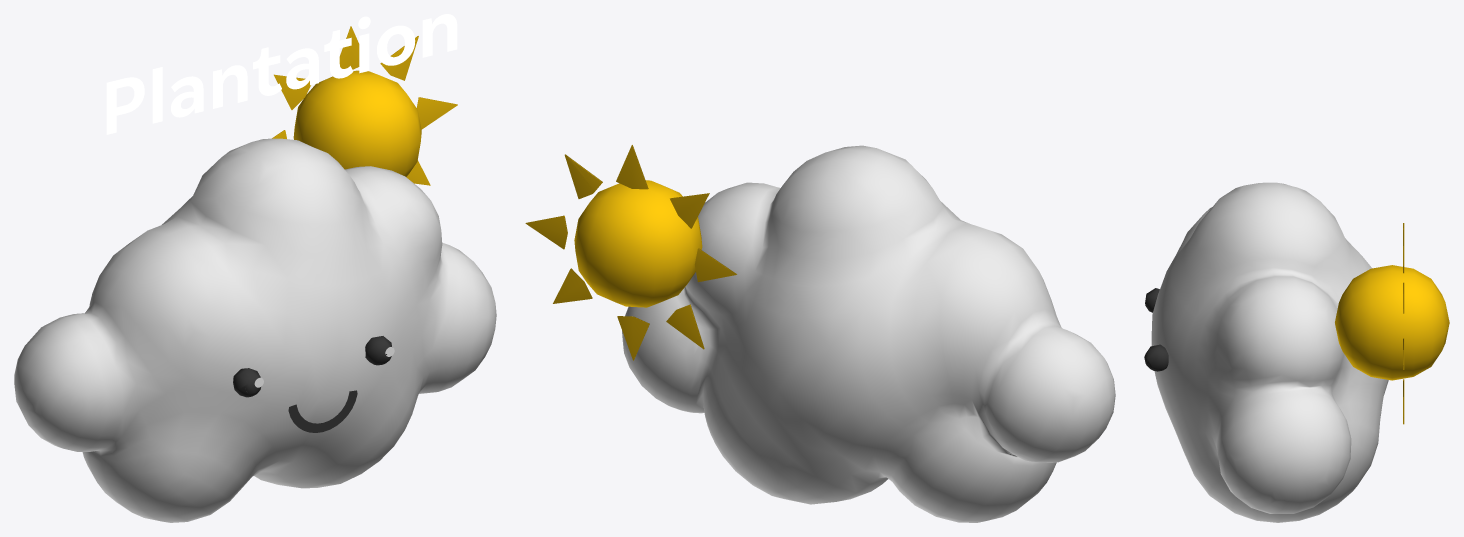
File: cloudy_plantation2.glb
3 renders of one model, left to right at view 1: azimuth 30°, elevation 25°; view 2: azimuth 150°, elevation 25°; view 3: azimuth 270°, elevation 25°, orthographic. The views are drawn at different scales.
Parts seen in each view (by area): view 1: PM3D_Sphere3D4, PM3D_Sphere3D1_5, Plantation, PM3D_Sphere3D5; view 2: PM3D_Sphere3D4, PM3D_Sphere3D1_5; view 3: PM3D_Sphere3D4, PM3D_Sphere3D1_5, PM3D_Sphere3D5.
Part boxes in pixels (<box>): PM3D_Sphere3D4: <box>14,138,496,522</box>; PM3D_Sphere3D1_5: <box>272,26,457,185</box>; Plantation: <box>106,14,457,134</box>; PM3D_Sphere3D5: <box>233,336,394,432</box>; PM3D_Sphere3D4: <box>622,145,1115,522</box>; PM3D_Sphere3D1_5: <box>525,145,736,360</box>; PM3D_Sphere3D4: <box>1151,182,1388,522</box>; PM3D_Sphere3D1_5: <box>1335,223,1449,424</box>; PM3D_Sphere3D5: <box>1144,288,1168,371</box>.
Size of the model in its own units: 7.4 by 6.37 by 4.31.
4 materials, 4 textured.
